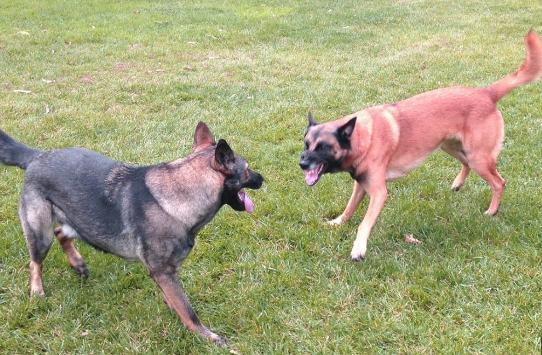dog_aggressive: (299, 70, 530, 260)
normal_dogs: (0, 122, 263, 341)
